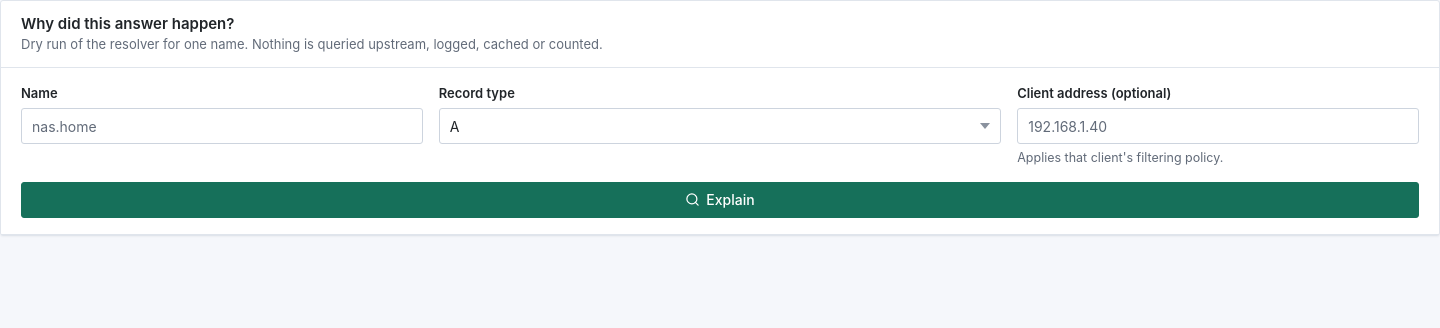
Test: shows the server's validation message
Type "a.example" into the field labelled "Name". click: (222, 126)
box: [21,108,423,144]
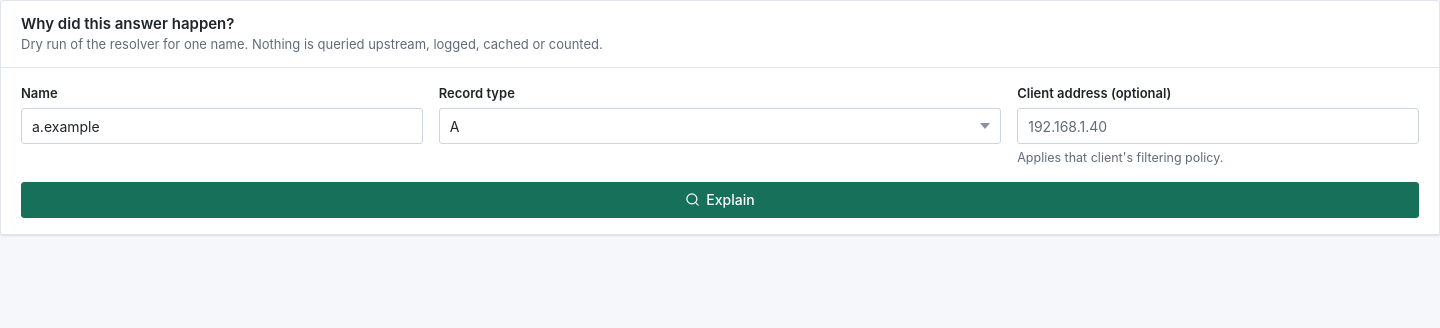
Type "nope" into the field labelled "Client address". click: (1218, 126)
box: [1017,108,1419,144]
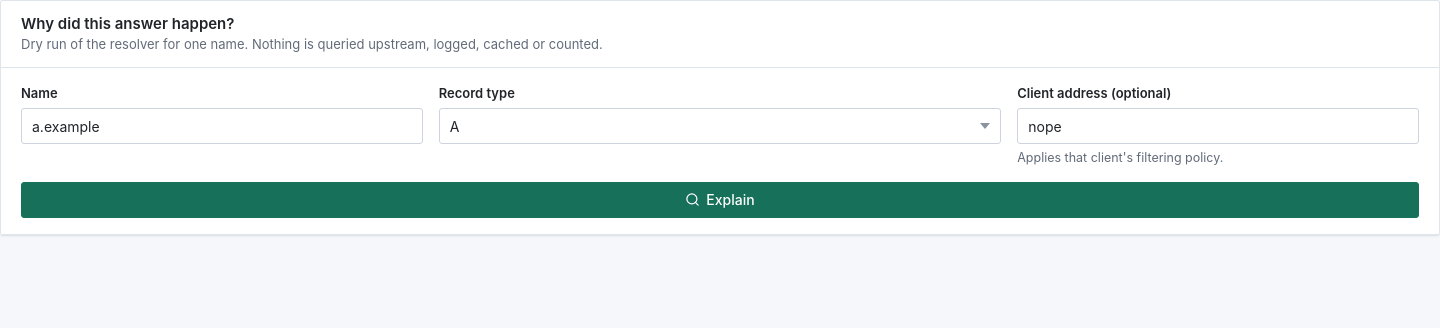
Click the button "Explain". click: (720, 200)
box: [21,182,1419,218]
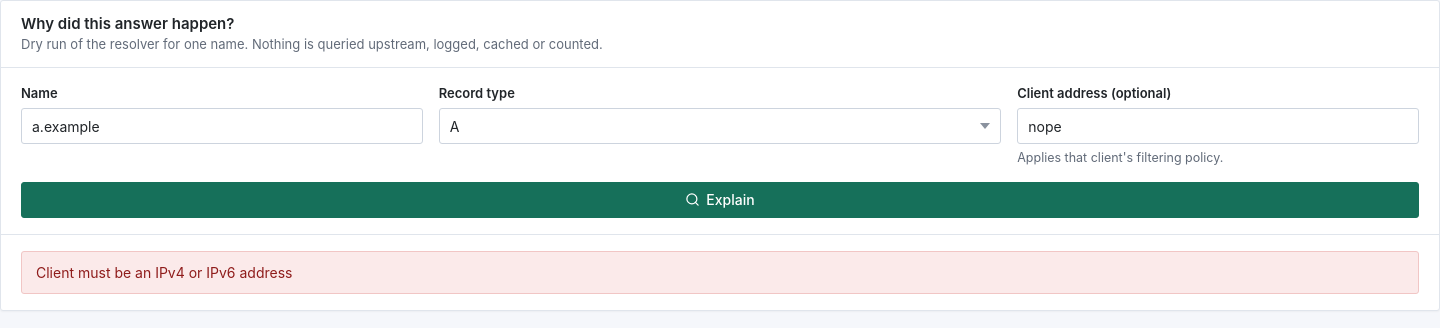
Check: the message reads "Client must be an IPv4 or IPv6 address", box [36,264,292,281]
